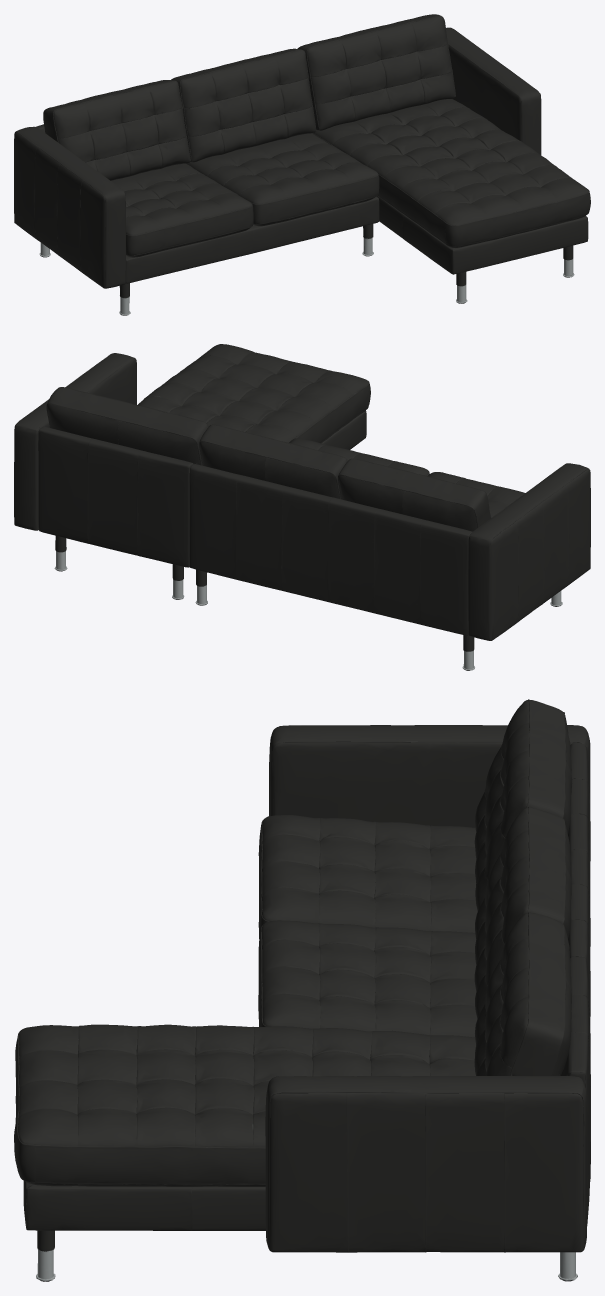
File: landskrona_sofa_3_osobowa_49031873.glb
The picture shows the model from 3 angles, top to bottom: view 1: azimuth 30°, elevation 25°; view 2: azimuth 150°, elevation 25°; view 3: azimuth 270°, elevation 25°; orthographic projection. The views are drawn at different scales.
Visible parts, largest first — view 1: landskrona_sofa_3_osobowa_49031873; view 2: landskrona_sofa_3_osobowa_49031873; view 3: landskrona_sofa_3_osobowa_49031873.
Part boxes in pixels (bbox=[...]): landskrona_sofa_3_osobowa_49031873: bbox=[14, 14, 590, 315]; landskrona_sofa_3_osobowa_49031873: bbox=[14, 344, 590, 670]; landskrona_sofa_3_osobowa_49031873: bbox=[14, 699, 590, 1281].
Size of the model in its own units: 2.43 by 0.8161 by 1.6.
Materials: 1 (1 with a texture image).
